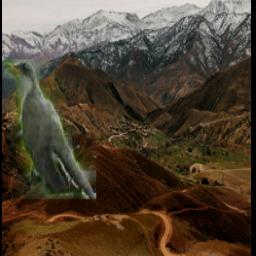Cuckoo: (3, 59, 95, 199)
